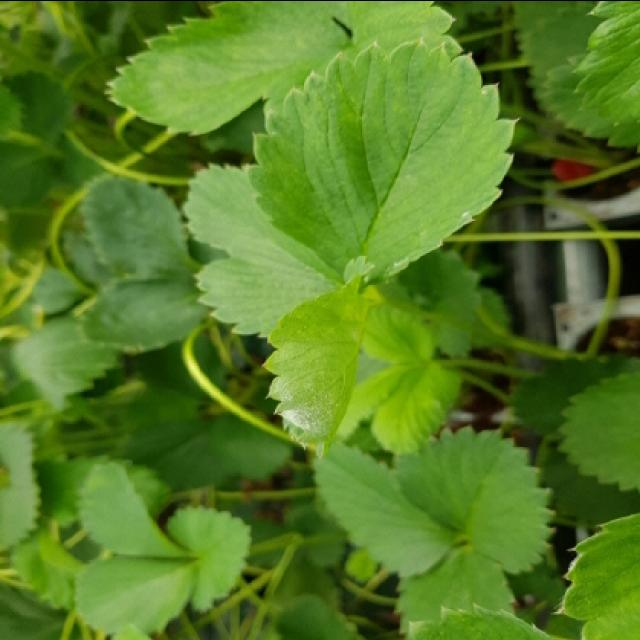Powdery Mildew Leaf: (262, 284, 367, 461)
